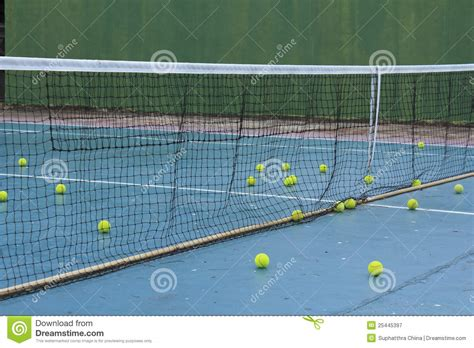tennis_ball: (368, 260, 383, 277), (255, 253, 270, 269), (97, 220, 111, 233), (333, 200, 345, 212), (55, 182, 66, 195), (345, 197, 356, 210), (407, 198, 418, 210), (292, 210, 302, 222), (454, 183, 464, 194), (247, 175, 256, 186), (364, 174, 373, 185), (1, 190, 9, 202), (281, 161, 289, 172), (18, 157, 27, 166), (412, 179, 421, 188), (255, 163, 264, 171), (319, 164, 327, 173), (284, 177, 292, 186), (289, 175, 297, 184), (417, 141, 424, 148)
